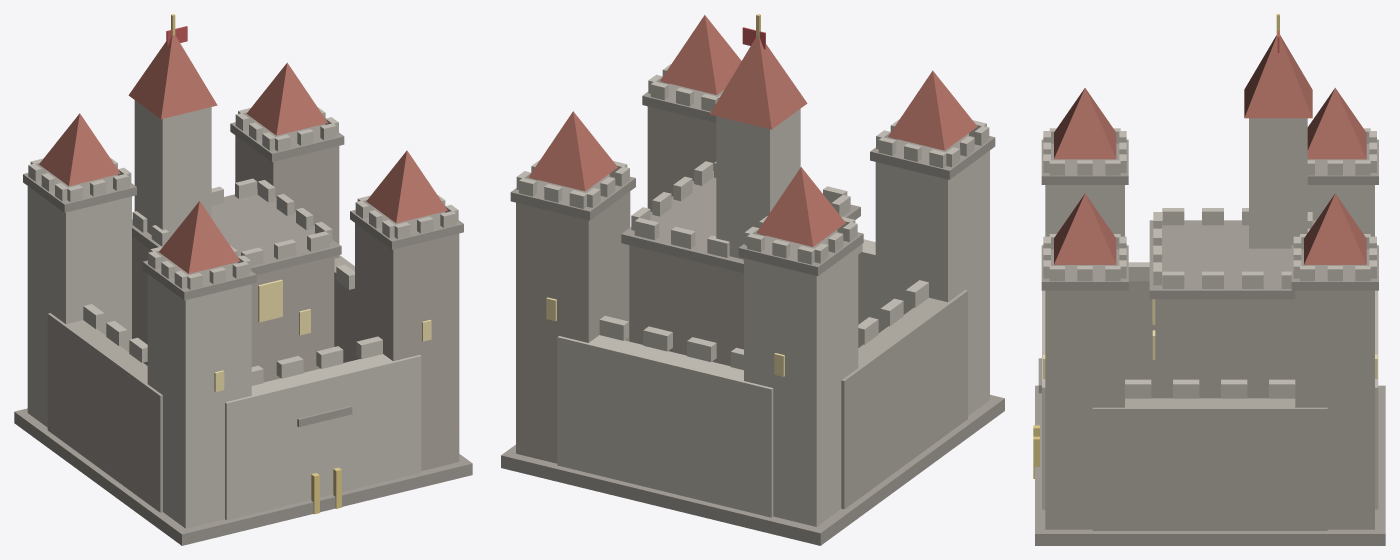
The model's file is castle.glb.
3 views of the same model, side by side, from view 1: azimuth 30°, elevation 25°; view 2: azimuth 150°, elevation 25°; view 3: azimuth 270°, elevation 25° (orthographic). The views are drawn at different scales.
Bounding box in the file's own units: 18.5 × 25.5 × 18.57.
